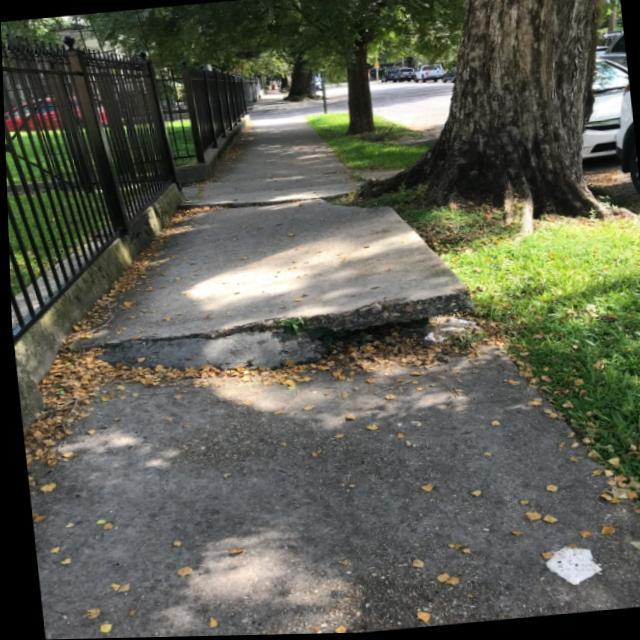hole: (113, 271, 521, 408)
